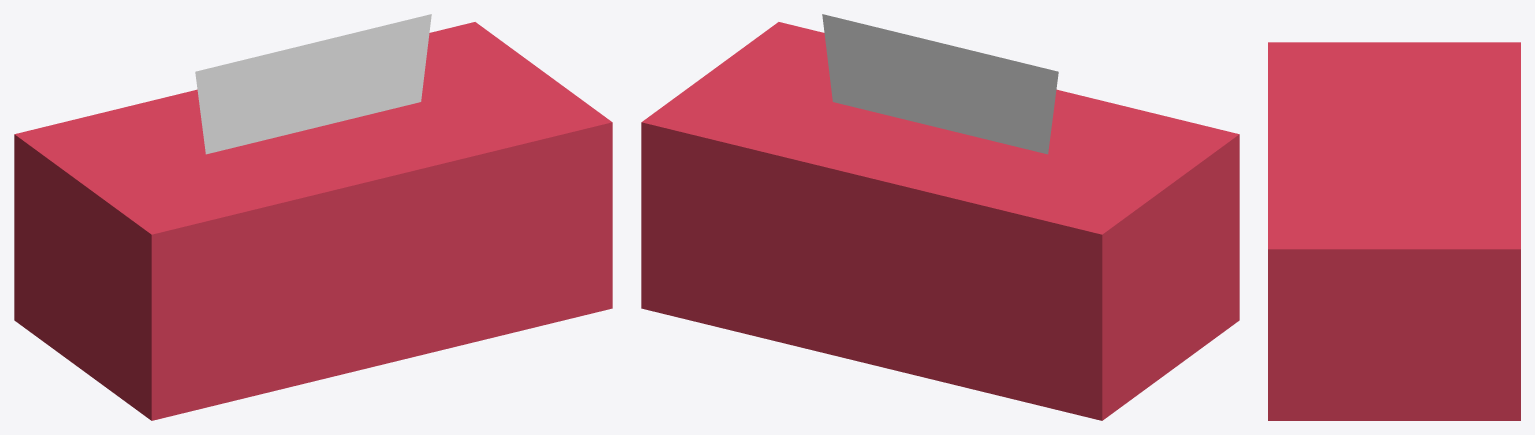
File: Itr_Obj_Tissue_01.FBX
The picture shows the model from 3 angles, left to right: view 1: azimuth 30°, elevation 25°; view 2: azimuth 150°, elevation 25°; view 3: azimuth 270°, elevation 25°; orthographic projection. The views are drawn at different scales.
Visible parts, largest first — view 1: Itr_Obj_Tissue_01; view 2: Itr_Obj_Tissue_01; view 3: Itr_Obj_Tissue_01.
Part boxes in pixels (x1=…): Itr_Obj_Tissue_01: x1=14, y1=14, x2=612, y2=420; Itr_Obj_Tissue_01: x1=641, y1=14, x2=1239, y2=420; Itr_Obj_Tissue_01: x1=1268, y1=42, x2=1520, y2=420.
Size of the model in its own units: 16.29 by 9.18 by 8.4.
